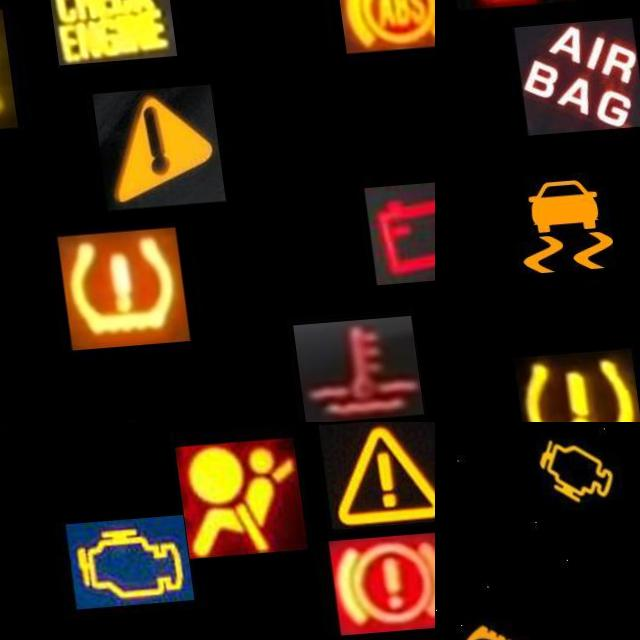Central Warning lamp: (85, 90, 215, 214), (311, 424, 435, 537)
Engine cooling system: (278, 323, 407, 422)
